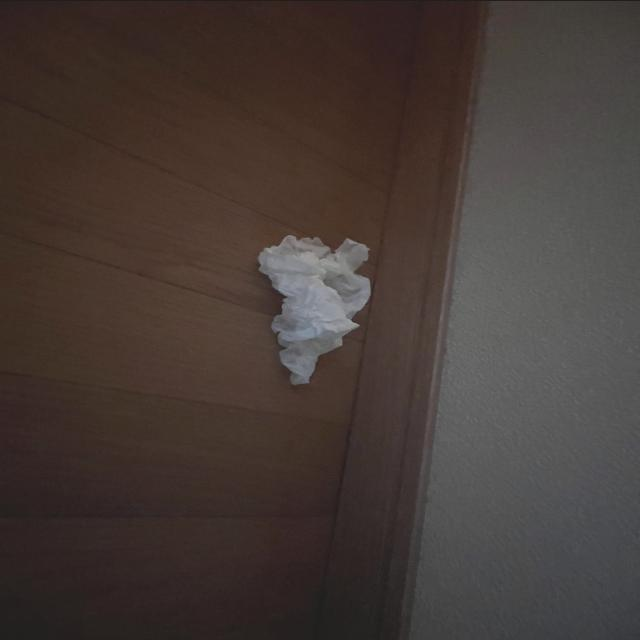Paper: (262, 215, 378, 386)
